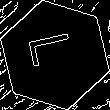L_E: (26, 34, 84, 76)
